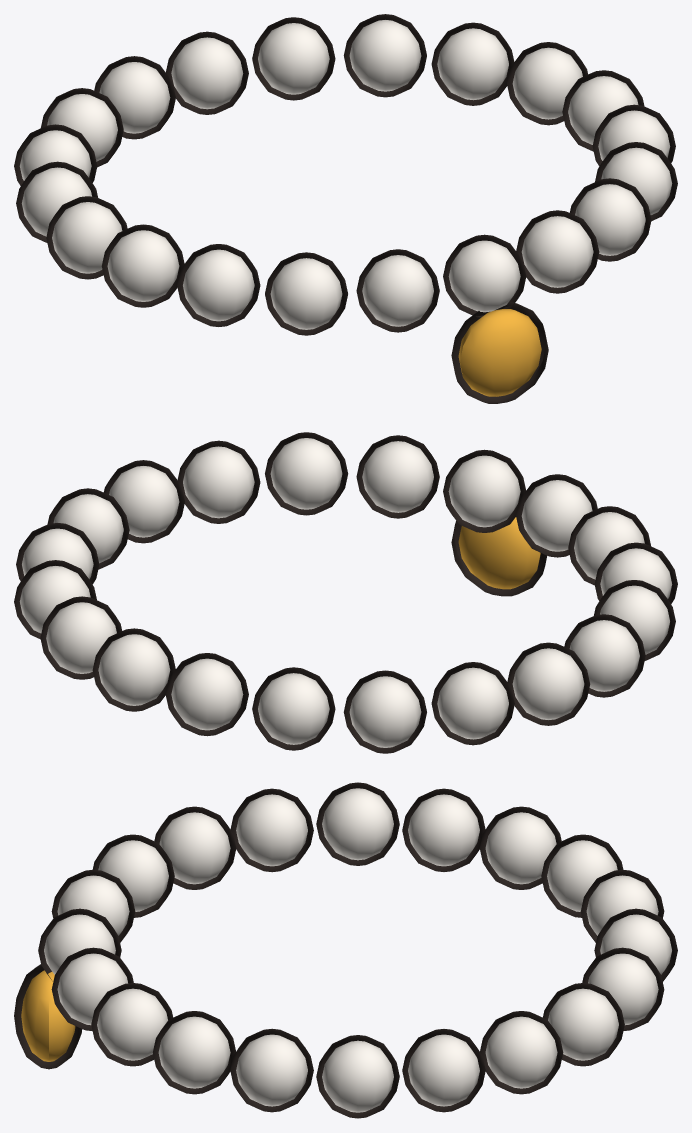
Rendered from col_pearl.fbx.
3 renders of one model, top to bottom at view 1: azimuth 30°, elevation 25°; view 2: azimuth 150°, elevation 25°; view 3: azimuth 270°, elevation 25°, orthographic.
Visible parts, largest first — view 1: col_pearl_C_F8F3EC, col_pearl_Outline, col_pearl_C_F2B33D; view 2: col_pearl_C_F8F3EC, col_pearl_Outline, col_pearl_C_F2B33D; view 3: col_pearl_C_F8F3EC, col_pearl_Outline, col_pearl_C_F2B33D.
Part boxes in pixels (bbox=[...]): col_pearl_C_F8F3EC: bbox=[19, 20, 672, 329]; col_pearl_Outline: bbox=[14, 14, 677, 403]; col_pearl_C_F2B33D: bbox=[458, 309, 541, 396]; col_pearl_C_F8F3EC: bbox=[19, 438, 672, 747]; col_pearl_Outline: bbox=[14, 432, 677, 753]; col_pearl_C_F2B33D: bbox=[458, 517, 540, 589]; col_pearl_C_F8F3EC: bbox=[44, 788, 671, 1112]; col_pearl_Outline: bbox=[14, 782, 677, 1118]; col_pearl_C_F2B33D: bbox=[21, 970, 75, 1061].
Bounding box in the file's own units: 0.6612 × 0.1626 × 0.6446.
